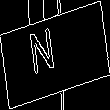N_S: (40, 26, 70, 84)
